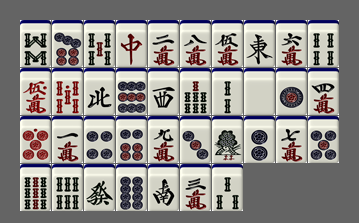0m: (20, 68, 51, 115)
0p: (20, 116, 51, 163)
0s: (52, 68, 83, 115)
1m: (52, 116, 83, 163)
1p: (276, 68, 307, 115)
1s: (212, 116, 243, 163)
1z: (244, 20, 275, 67)
2m: (148, 20, 179, 67)
2p: (244, 116, 275, 163)
2s: (212, 68, 243, 115)
2z: (148, 164, 179, 211)
3m: (180, 164, 211, 211)
3p: (180, 116, 211, 163)
3s: (212, 164, 243, 211)
3z: (148, 68, 179, 115)
4m: (308, 68, 339, 115)
4p: (84, 116, 115, 163)
4s: (308, 20, 339, 67)
4z: (84, 68, 115, 115)
5m: (212, 20, 243, 67)
5p: (308, 116, 339, 163)
5s: (84, 20, 115, 67)
5z: (244, 68, 275, 115)
6m: (276, 20, 307, 67)
6p: (116, 116, 147, 163)
6s: (52, 164, 83, 211)
6z: (84, 164, 115, 211)
7m: (276, 116, 307, 163)
7p: (52, 20, 83, 67)
7s: (180, 68, 211, 115)
7z: (116, 20, 147, 67)
8m: (180, 20, 211, 67)
8p: (116, 164, 147, 211)
8s: (20, 20, 51, 67)
9m: (148, 116, 179, 163)
9p: (116, 68, 147, 115)
9s: (20, 164, 51, 211)
